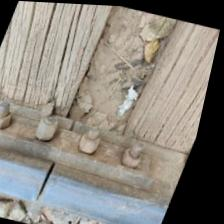person: (14, 150, 90, 217), (62, 111, 97, 139)
